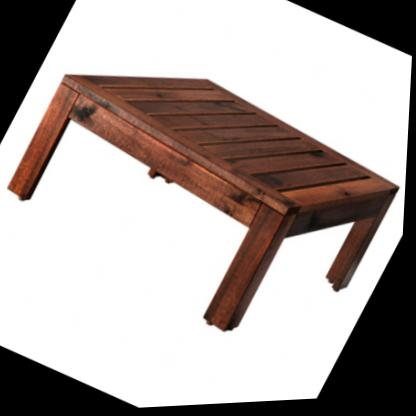Table: (0, 4, 415, 392)
